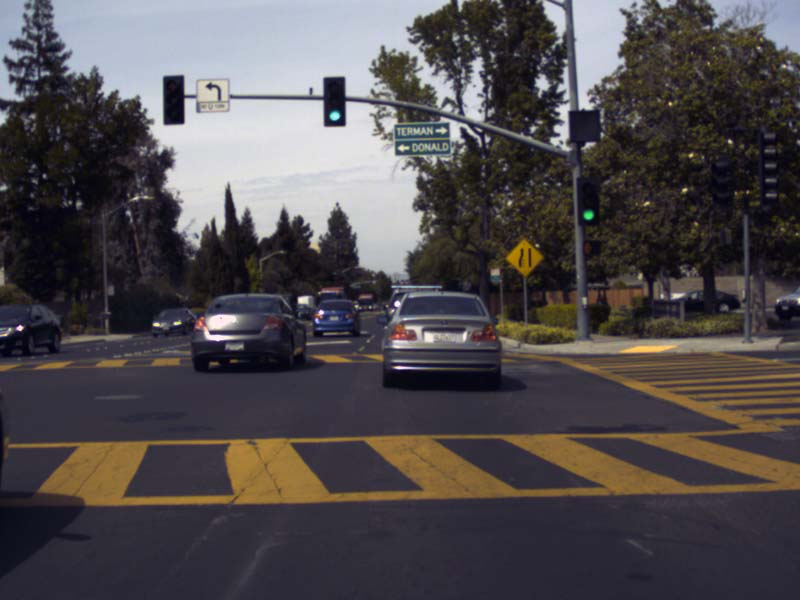Green: (577, 177, 599, 225), (323, 77, 344, 126)
Red: (162, 76, 183, 124)
